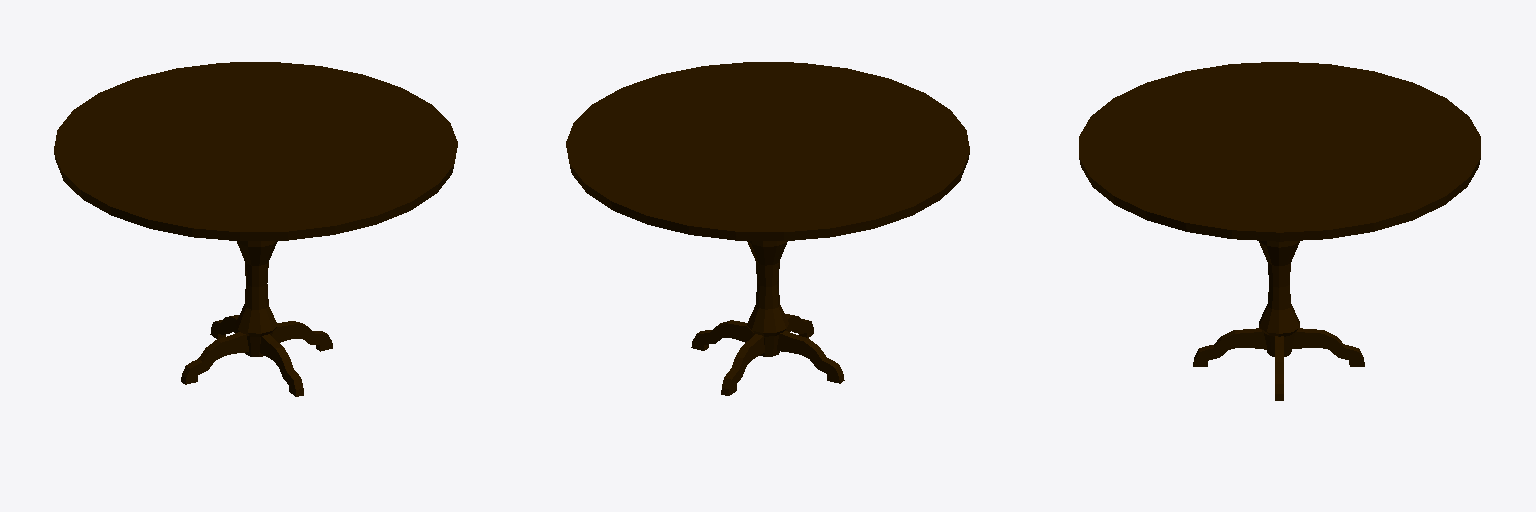
Rendered from table.obj.
The picture shows the model from 3 angles: view 1: azimuth 30°, elevation 25°; view 2: azimuth 150°, elevation 25°; view 3: azimuth 270°, elevation 25°; orthographic projection.
Parts seen in each view (by area): view 1: table; view 2: table; view 3: table.
Boxes of the visible parts, x1=… form: table: x1=54, y1=62, x2=457, y2=396; table: x1=566, y1=62, x2=969, y2=395; table: x1=1079, y1=62, x2=1480, y2=400.
Size of the model in its own units: 1 by 0.5932 by 0.9928.